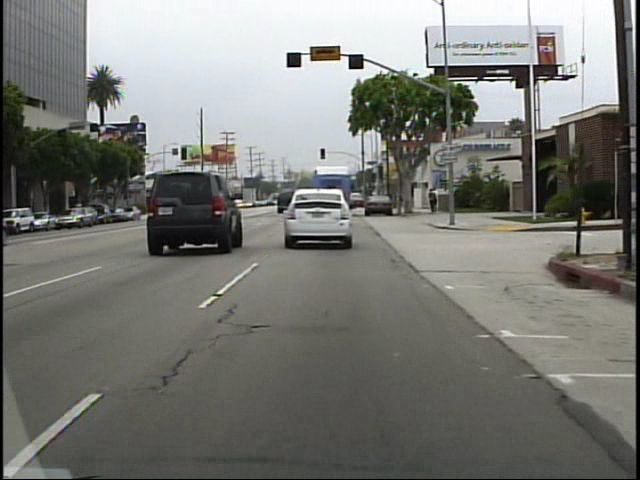person: (426, 187, 438, 217), (434, 187, 442, 213)
